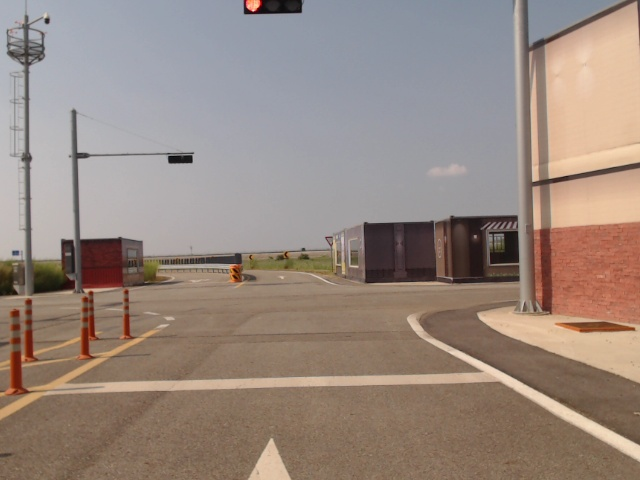red_3: (244, 0, 301, 15)
